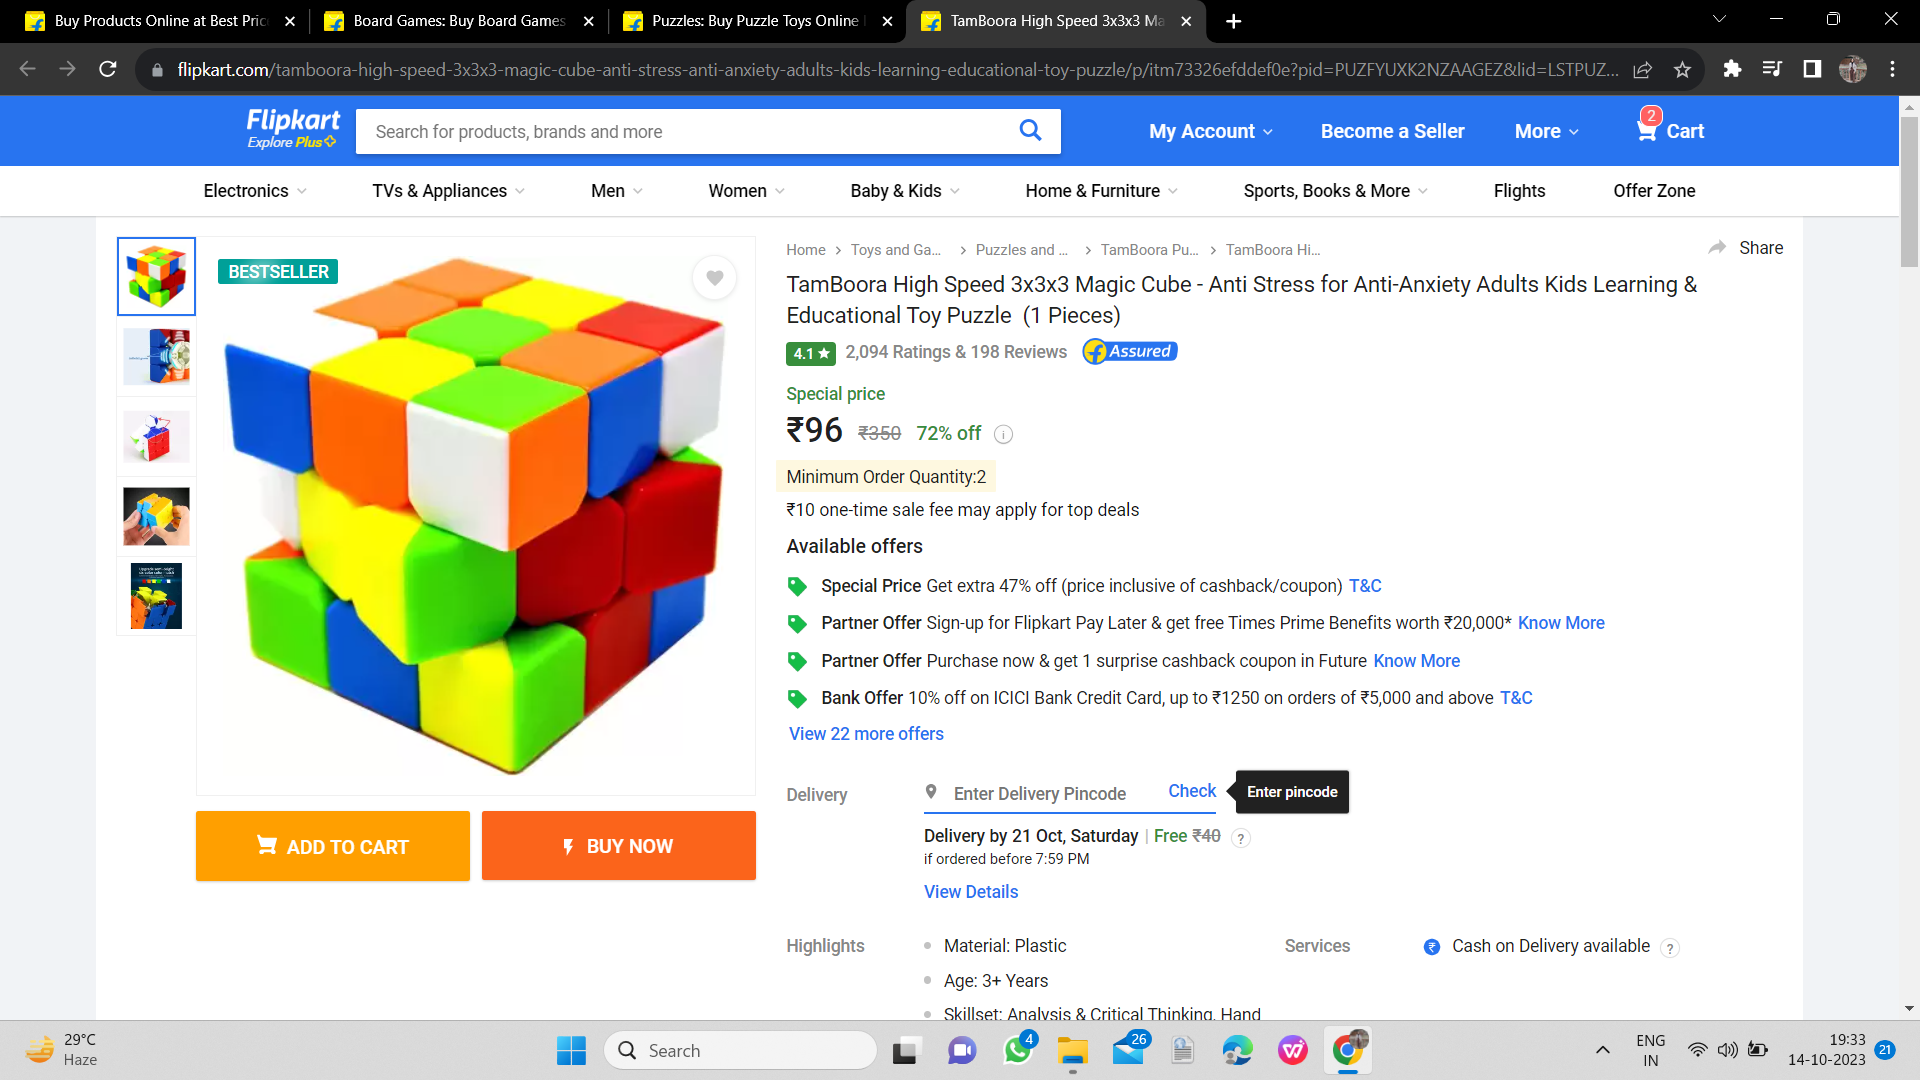Image: (200, 245, 762, 789)
Paragraph: (786, 575, 1636, 752), (775, 266, 1698, 335), (173, 803, 775, 903), (1113, 100, 1724, 149), (903, 769, 1369, 811), (761, 934, 1076, 989), (778, 342, 1203, 376), (778, 385, 986, 451), (1275, 934, 1659, 961), (910, 818, 1149, 851), (775, 465, 1013, 492), (779, 502, 1145, 517), (773, 538, 945, 562), (773, 782, 873, 811)
